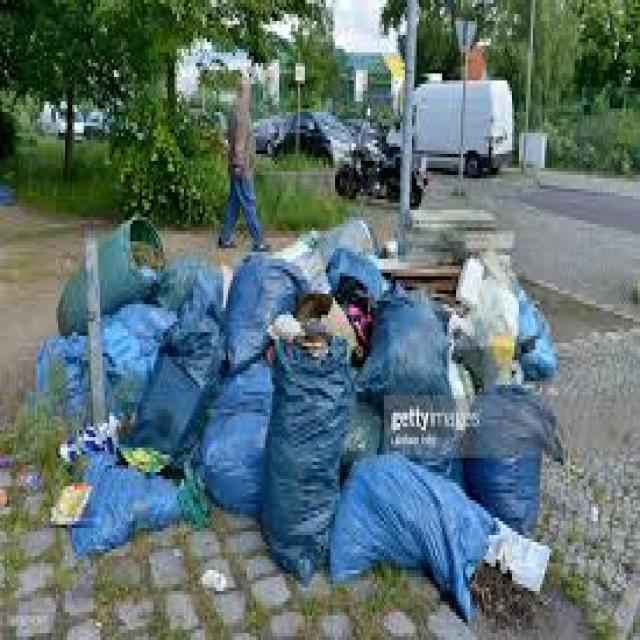garbage: (21, 207, 567, 626)
